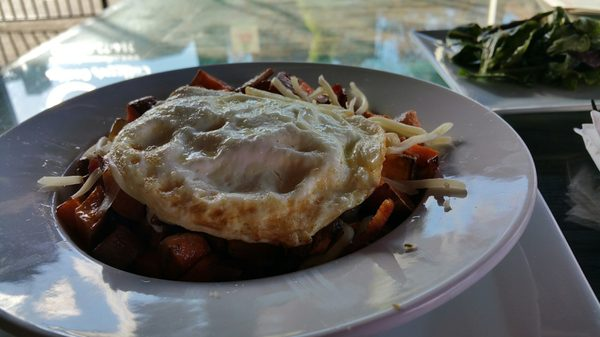soup: (62, 76, 466, 277)
